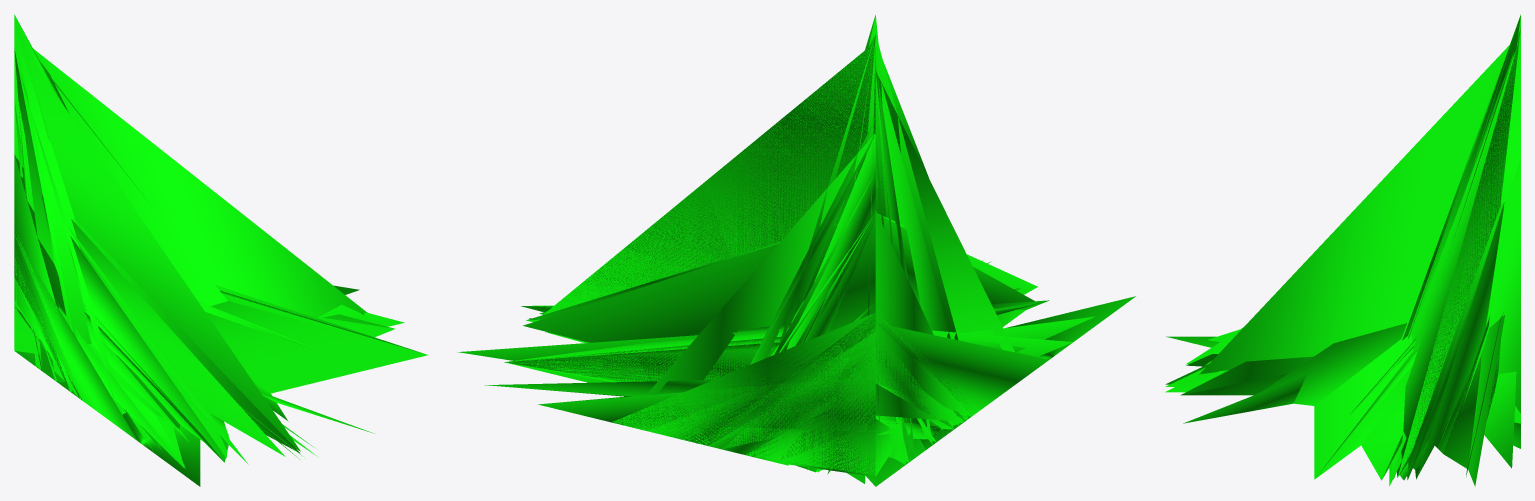
The model's file is ball_blue.fbx.
3 renders of one model, left to right at view 1: azimuth 30°, elevation 25°; view 2: azimuth 150°, elevation 25°; view 3: azimuth 270°, elevation 25°, orthographic. The views are drawn at different scales.
Visible parts, largest first — view 1: ball_blue; view 2: ball_blue; view 3: ball_blue.
Part boxes in pixels (x1,y1,x2,y2): ball_blue: (14,14,427,486); ball_blue: (457,15,1135,486); ball_blue: (1165,14,1520,486).
Bounding box in the file's own units: 9442621 × 9442621 × 9442621.
